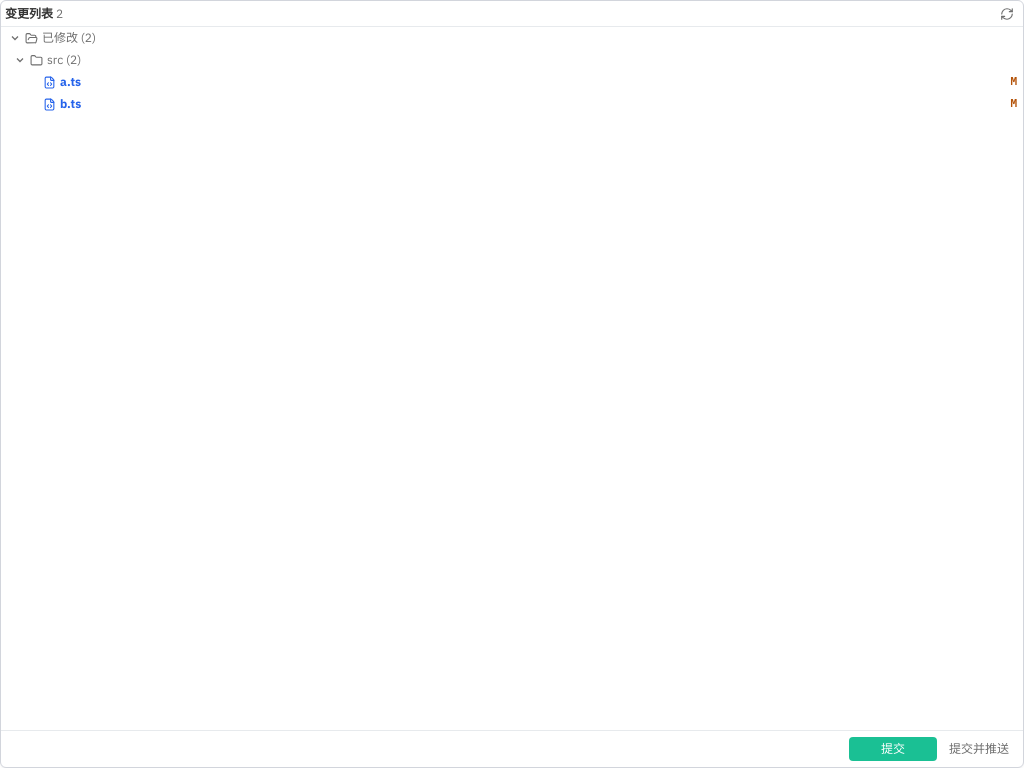
Scenario: GitStatusPanel 发送到会话 › Ctrl 多选后右键集合内行，发送全部选中文件
Click the list item with aria-label "src/a.ts" at coordinates (50, 82), box [1,71,1023,93]
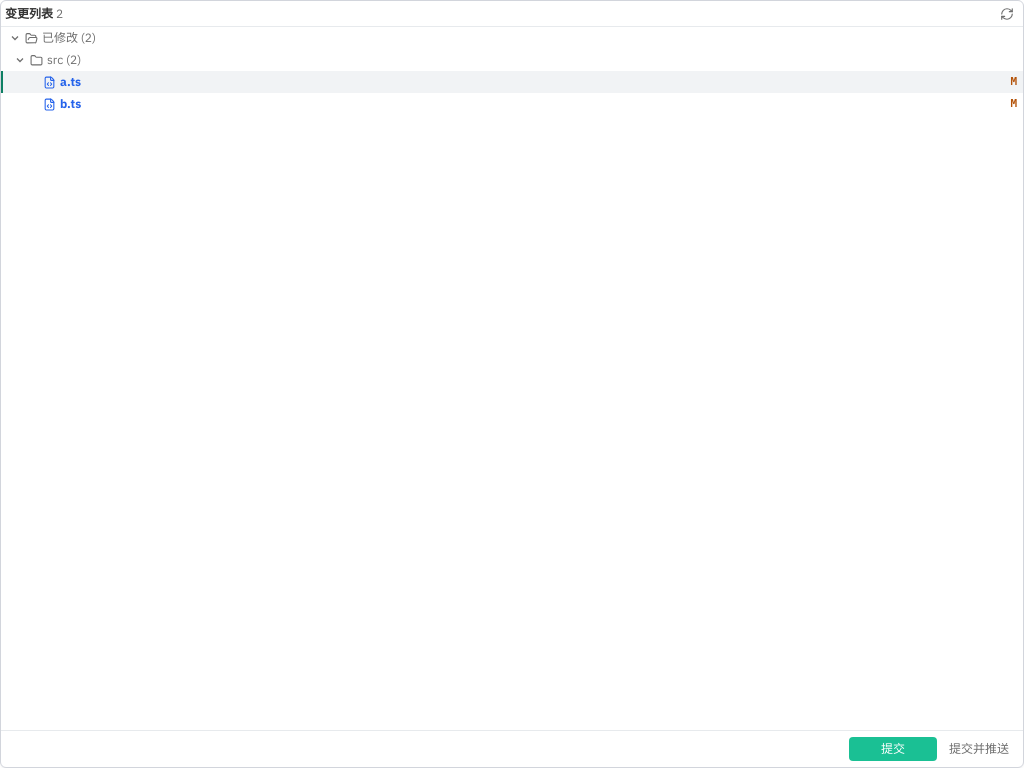
Click the list item with aria-label "src/b.ts" at coordinates (50, 104), box [1,93,1023,115]
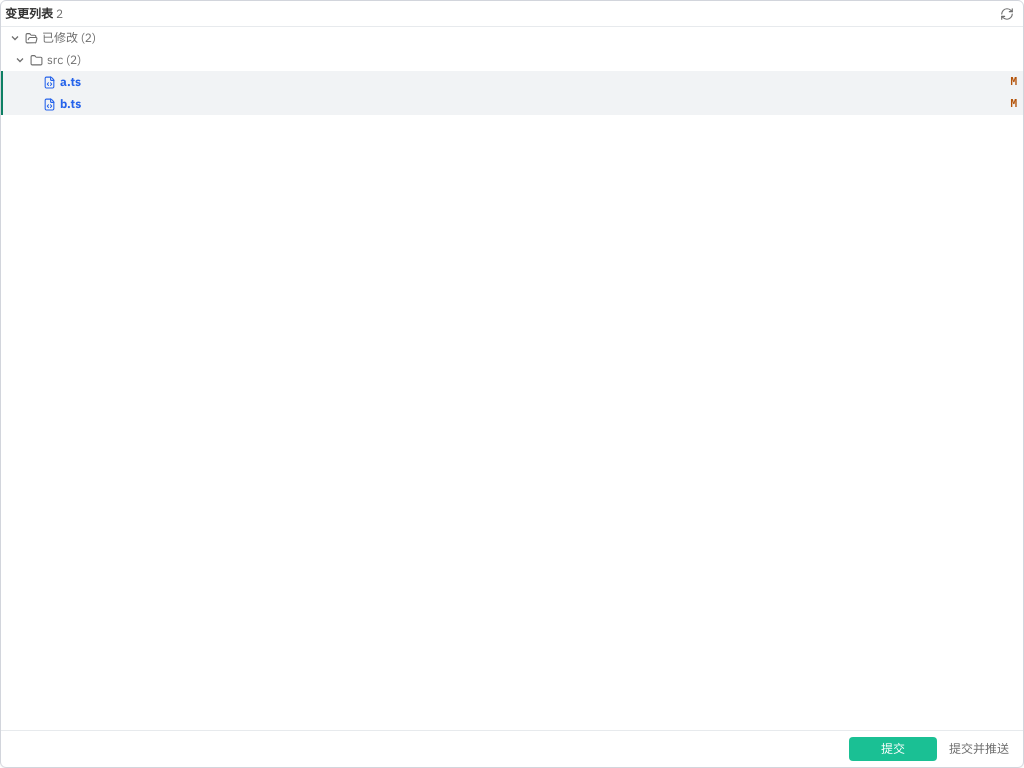
Right-click the list item with aria-label "src/b.ts" at coordinates (50, 104), box [1,93,1023,115]
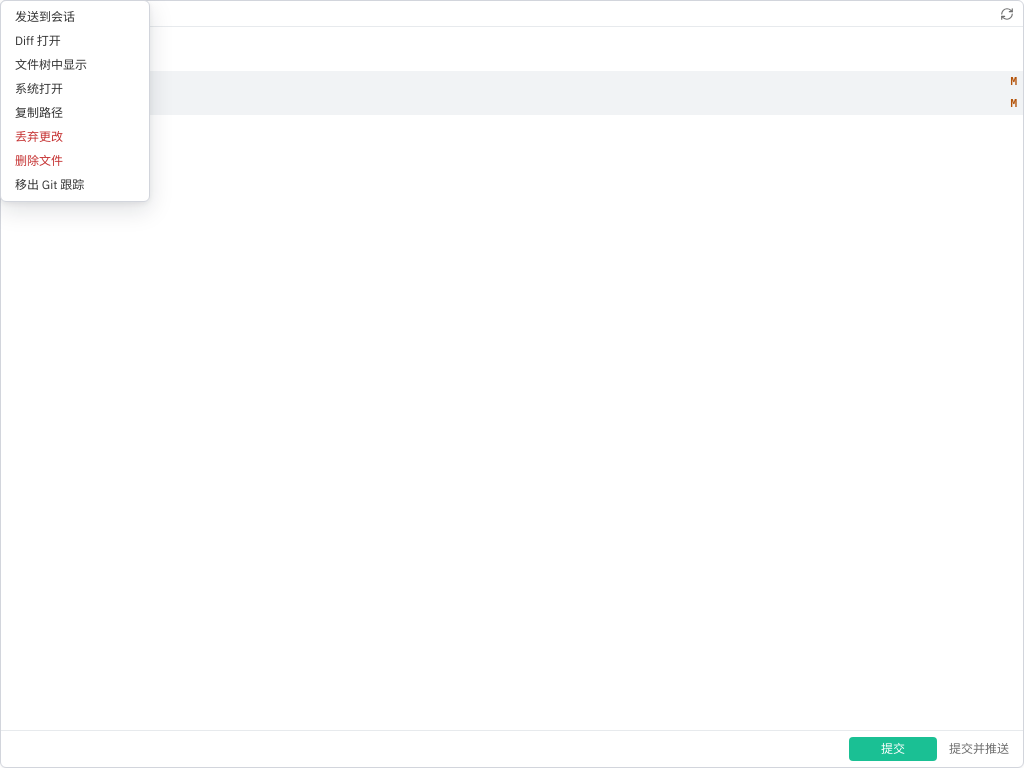
Click the menu item "发送到会话" at coordinates (75, 17), box [5,5,145,29]
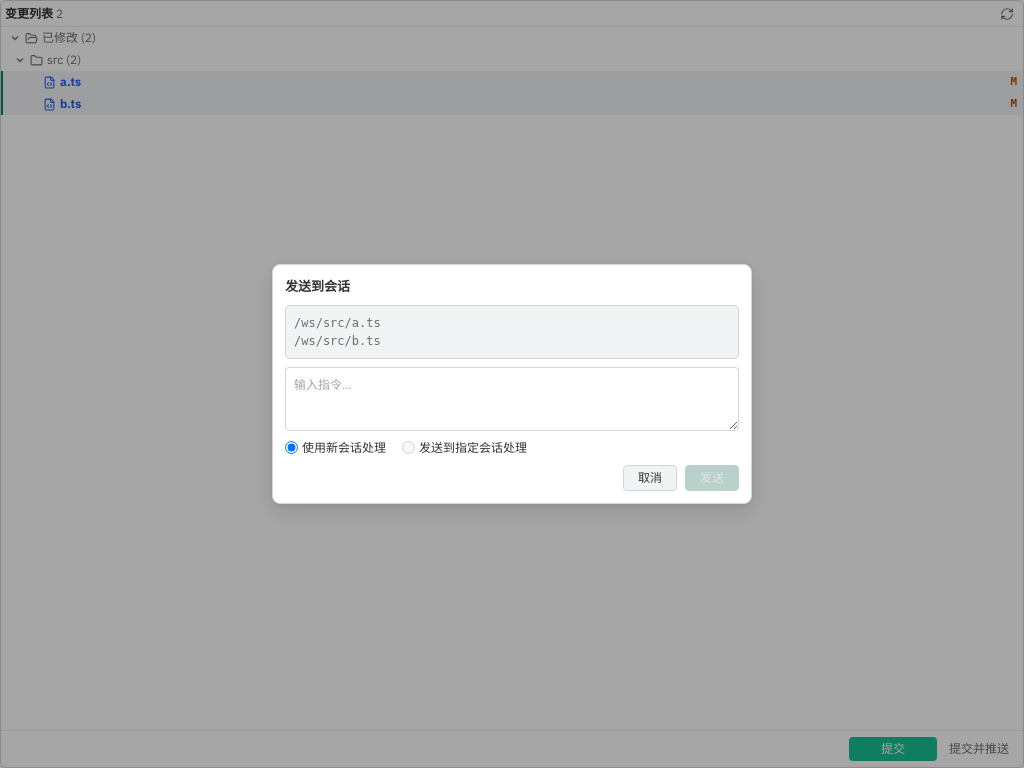
Now the text with test id "pm-send-dialog-preview" shows "/ws/src/a.ts", box [294,316,381,348]
Now the text with test id "pm-send-dialog-preview" shows "/ws/src/b.ts", box [294,316,381,348]
